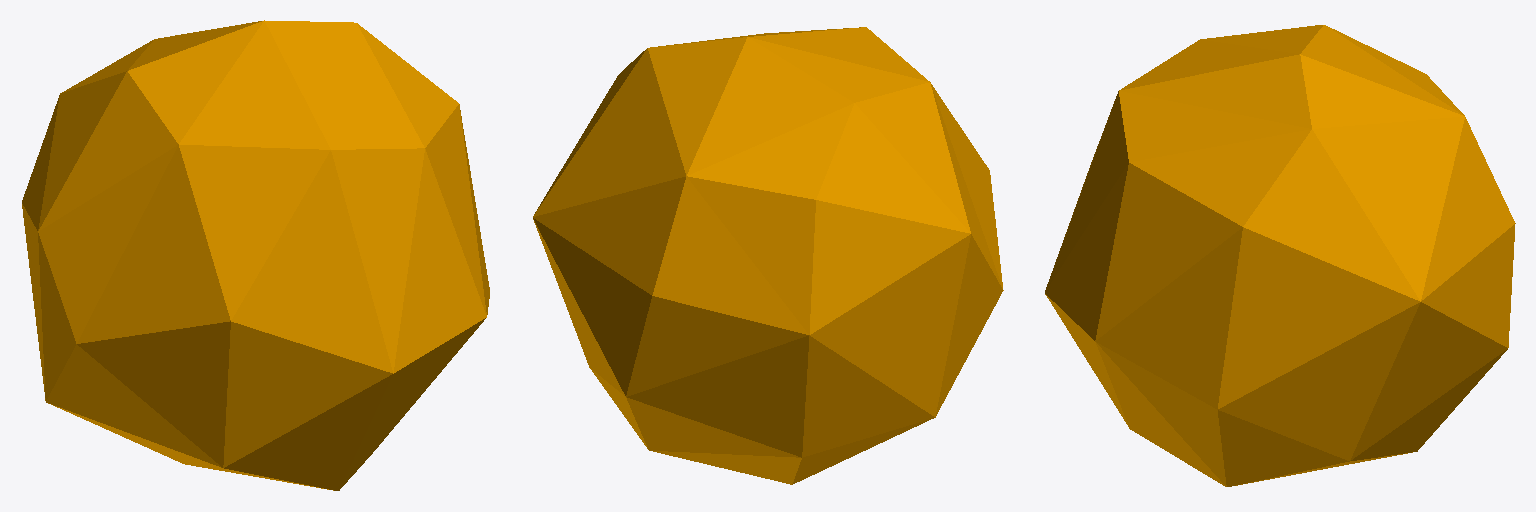
The robot description file, URDF, robot "056_tennis_ball":
<?xml version="1.0" encoding="UTF-8"?>
<robot name="056_tennis_ball">
	<link name="base">
		<collision>
			<geometry>
				<mesh filename="../vhacd/056_tennis_ball_vhacd.obj" scale="1.0 1.0 1.0"/>
			</geometry>
			<origin xyz="0 0 0"/>
			<contact_coefficients mu="0.24" />
		</collision>
		<visual>
			<geometry>
				<mesh filename="../vhacd/056_tennis_ball_vhacd.obj" scale="1.0 1.0 1.0"/>
			</geometry>
			<origin xyz="0 0 0"/>
		</visual>
		<inertial>
			<mass value="0.2"/>
			<inertia ixx="8.916699287704259e-05" ixy="6.544291688511162e-10" ixz="-1.9401279673146682e-07" iyy="8.912508114861723e-05" iyz="-9.016386510265977e-08" izz="8.937484489962815e-05" />
			<origin xyz="0.008233239742634917 -0.04419242635623044 0.032886620589233584"/>
		</inertial>
	</link>
</robot>

--- Facts derived from the render (not from the file) ---
Views: 3 orthographic renders of the robot side by side, from view 1: azimuth 30°, elevation 25°; view 2: azimuth 150°, elevation 25°; view 3: azimuth 270°, elevation 25°.
Robot: 056_tennis_ball — 1 links, 0 joints (none); root link base; default pose: every joint at zero.
Links seen in each view (by area): view 1: base; view 2: base; view 3: base.
Link boxes in pixels (x1,y1,x2,y2): base: [22, 20, 489, 490]; base: [533, 27, 1003, 484]; base: [1045, 25, 1515, 486].
Bounding box of the posed robot: 0.0662 × 0.0688 × 0.0675 m (x, y, z).
1 mesh visuals loaded from 1 distinct referenced files (1 OBJ).